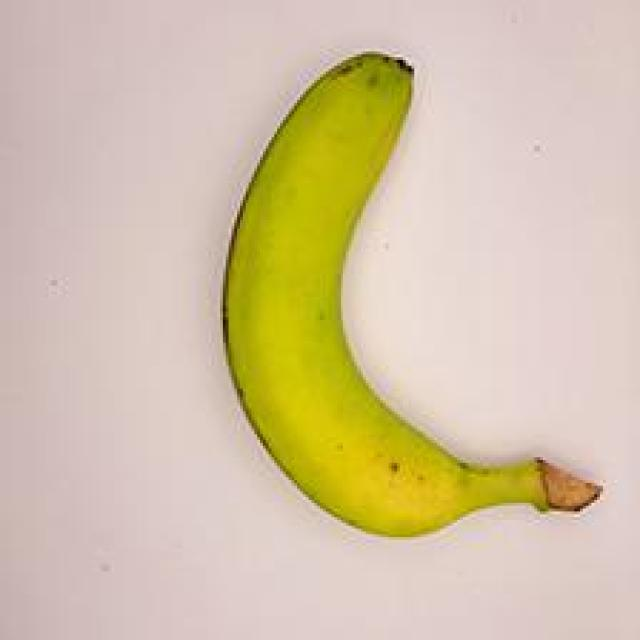Unripe: (174, 30, 620, 559)
